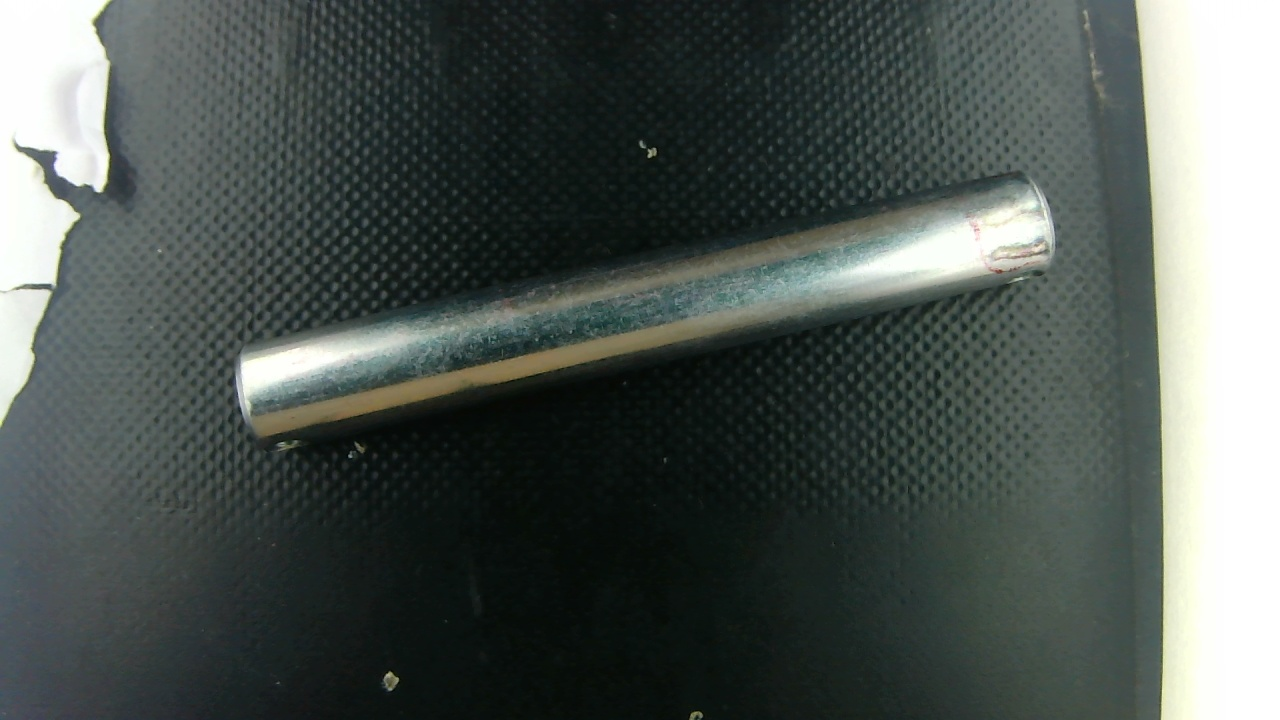black patch_pin: (978, 204, 1047, 236)
